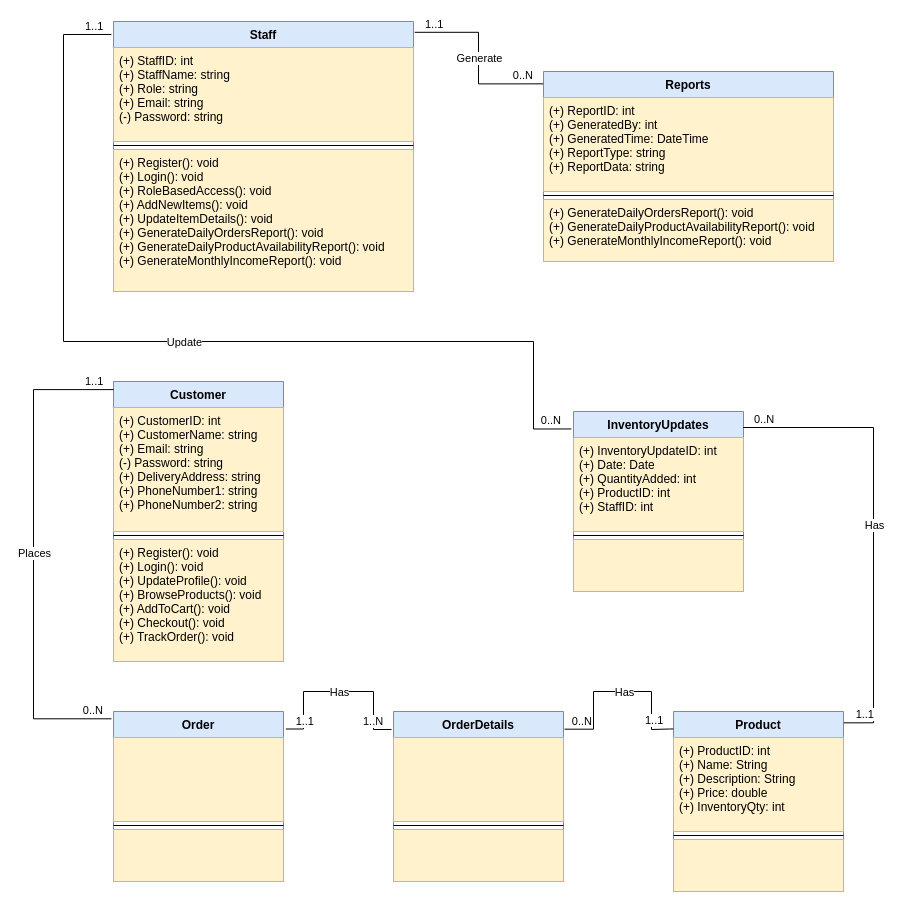
Image size: 901x912. Some labels were removed from this diagram. Each missing label, with the centre of its shape:
"(+) AddNewItems(): void (+) UpdateItemDetails(): void" goes at point 658,565.
"(+) AddOrderDetail(): void (+) ModifyOrderDetail(): void" goes at point 478,855.
"(+) AddProduct(): void (+) UpdateProduct(): void" goes at point 758,865.
"(+) CreateOrder(): void (+) TrackOrder(): void" goes at point 198,855.
"(+) OrderDetailsID: int (+) Quantity: int (+) ProductID: int (+) OrderID: int" goes at point 478,779.
"(+) OrderID: int (+) CustomerID: int (+) OrderDate: Date (+) TotalAmount: double" goes at point 198,779.
